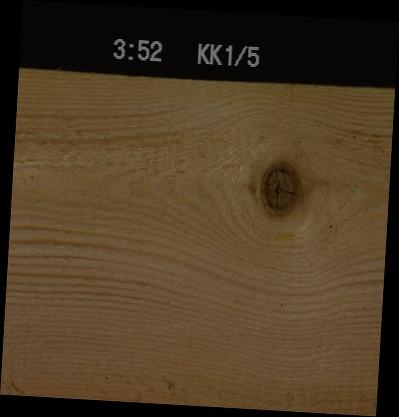sound_knot: (256, 158, 301, 219)
